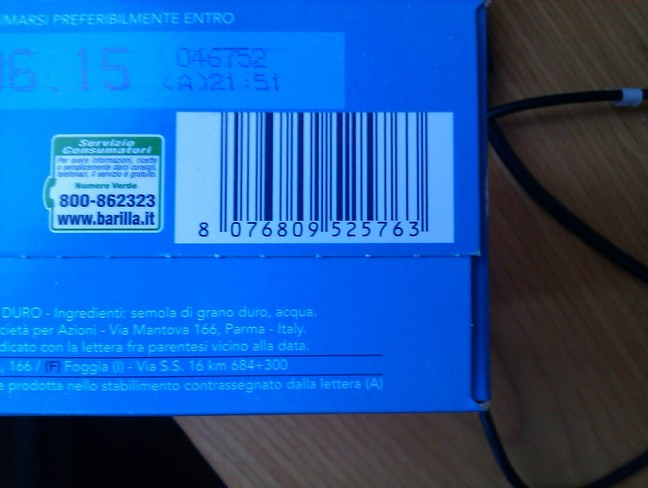detection: (176, 113, 454, 242)
